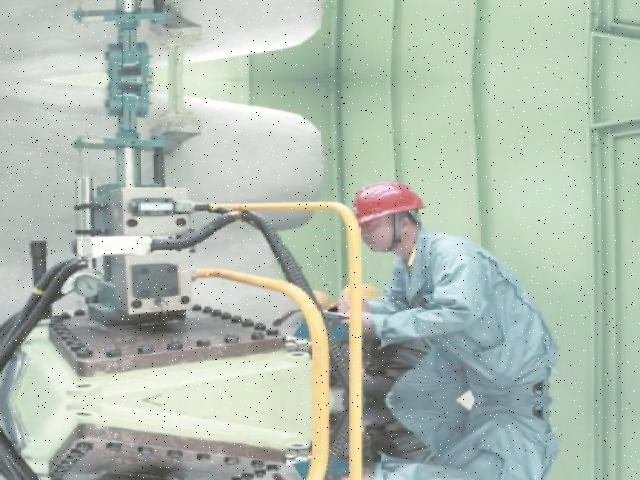Helmet: (347, 177, 425, 228)
